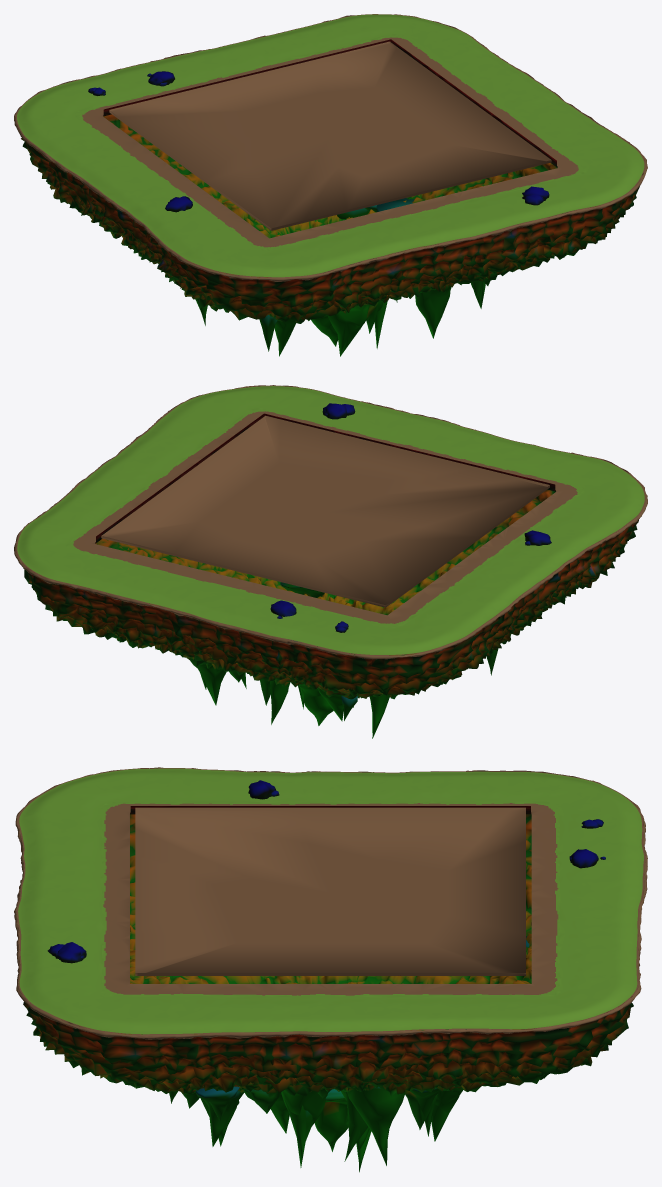
File: SM_Island_L1.glb
3 views of the same model, one above another, from view 1: azimuth 30°, elevation 25°; view 2: azimuth 150°, elevation 25°; view 3: azimuth 270°, elevation 25° (orthographic). The views are drawn at different scales.
Parts seen in each view (by area): view 1: SM_Island; view 2: SM_Island; view 3: SM_Island.
Boxes of the visible parts, x1,y1,x2,y2 form: SM_Island: (14, 14, 647, 356); SM_Island: (14, 385, 647, 738); SM_Island: (14, 767, 647, 1172).
Bounding box in the file's own units: 78.28 × 35.48 × 77.89.
